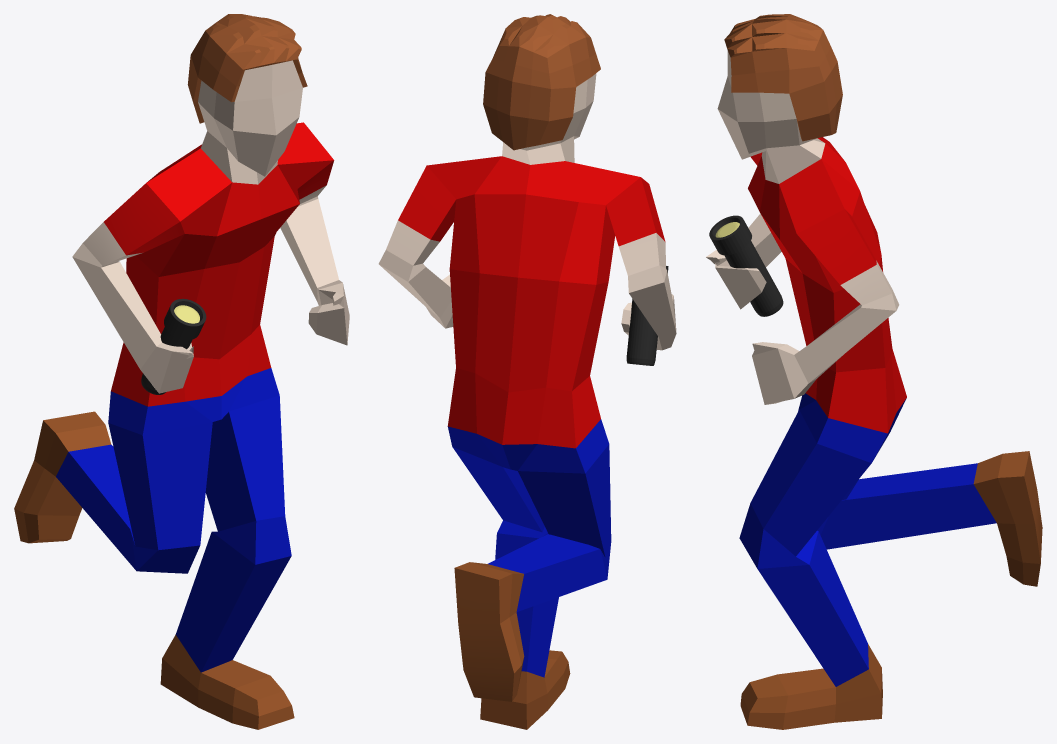
The model's file is Human_running_10.fbx.
3 renders of one model, left to right at view 1: azimuth 30°, elevation 25°; view 2: azimuth 150°, elevation 25°; view 3: azimuth 270°, elevation 25°, orthographic. The views are drawn at different scales.
Visible parts, largest first — view 1: Person.004, Flashlight; view 2: Person.004, Flashlight; view 3: Person.004, Flashlight.
Part boxes in pixels (x1,y1,x2,y2): Person.004: (14, 14, 349, 729); Flashlight: (141, 298, 206, 394); Person.004: (378, 14, 676, 729); Flashlight: (626, 266, 668, 365); Person.004: (706, 14, 1042, 729); Flashlight: (709, 215, 783, 316).
Bounding box in the file's own units: 0.5923 × 1.49 × 0.6551.
